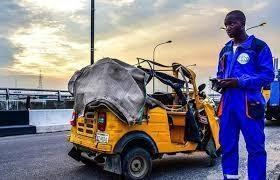keke: (61, 52, 159, 179)
